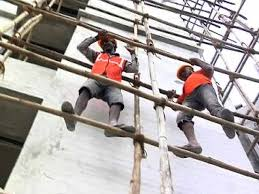glove: (151, 91, 169, 109)
helmet: (174, 60, 193, 80)
human: (168, 53, 241, 153), (80, 27, 133, 117)
leg: (173, 110, 205, 154), (173, 98, 199, 143), (74, 77, 97, 117), (106, 86, 126, 126), (199, 87, 226, 113)
nofootwear: (57, 101, 80, 132), (103, 119, 137, 138), (218, 108, 235, 138), (183, 138, 203, 153)
noglove: (126, 42, 136, 51)
nohelmet: (97, 32, 119, 51), (174, 60, 192, 79)
vest: (93, 50, 125, 81), (181, 67, 214, 96)
